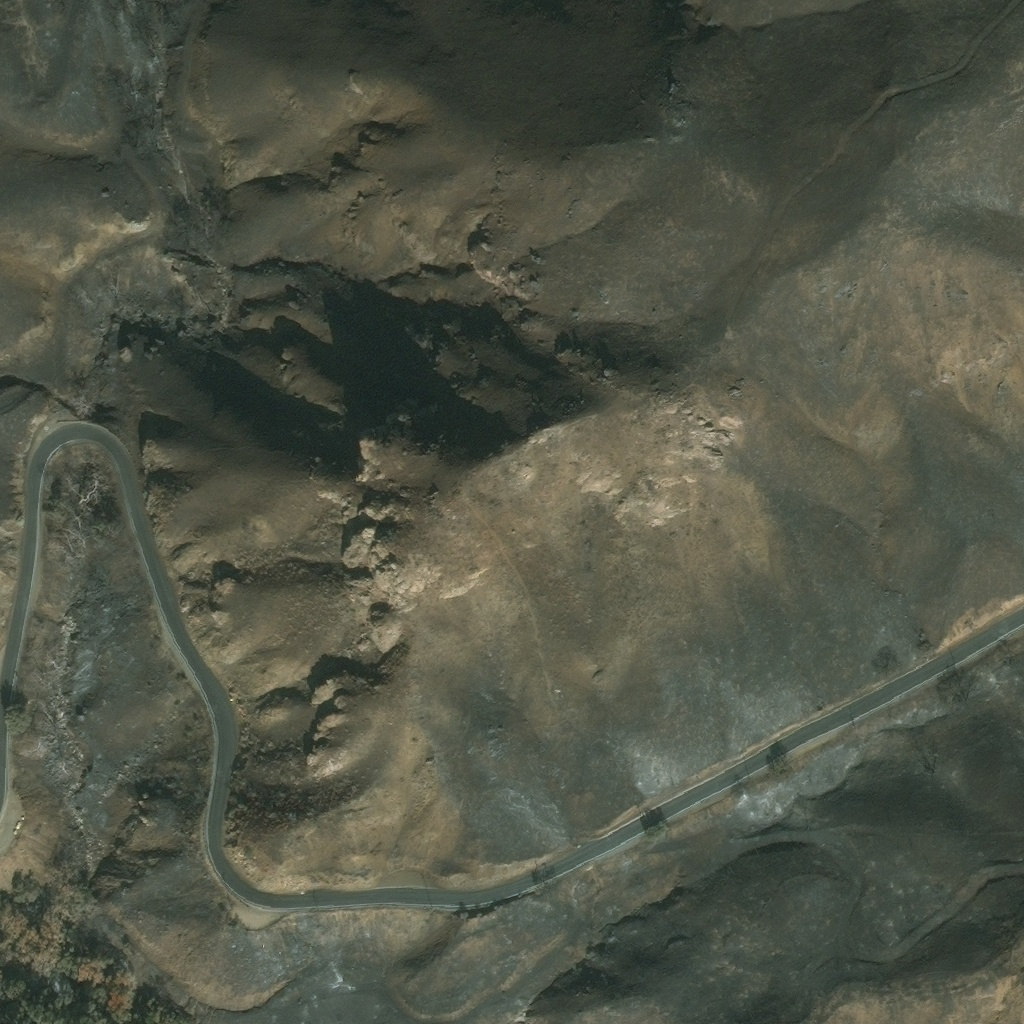0 no-damage: (1, 837, 9, 845), (14, 822, 20, 830), (0, 842, 4, 852)
